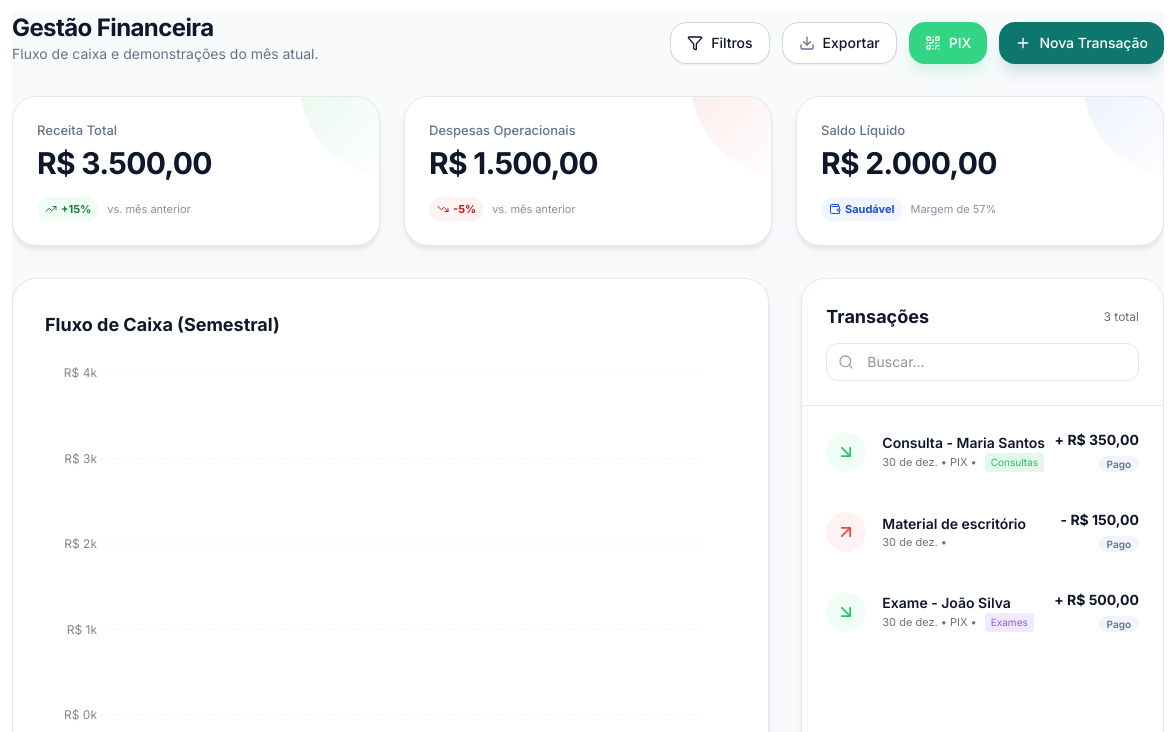
it: Finance › export functionality › should open export menu on click
What coordinates should you click on to do the following:
click the button "Exportar"
I would click on:
 (839, 43)
Its box is [782,22,897,64].
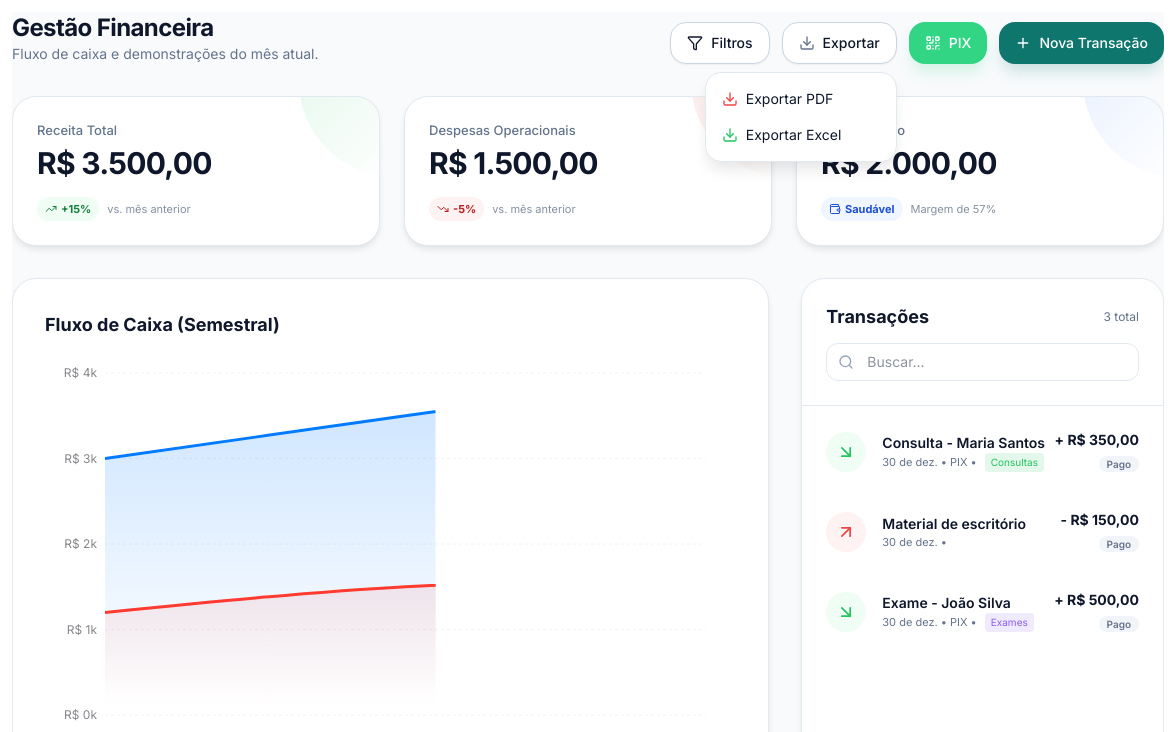
Now the button "Exportar PDF" is shown, box [706,81,896,117]
Now the button "Exportar Excel" is shown, box [706,117,896,153]
